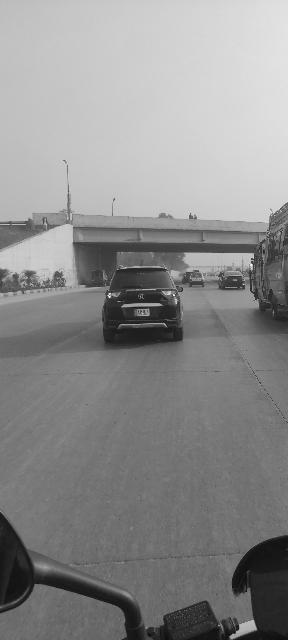Number: (138, 310, 148, 314)
